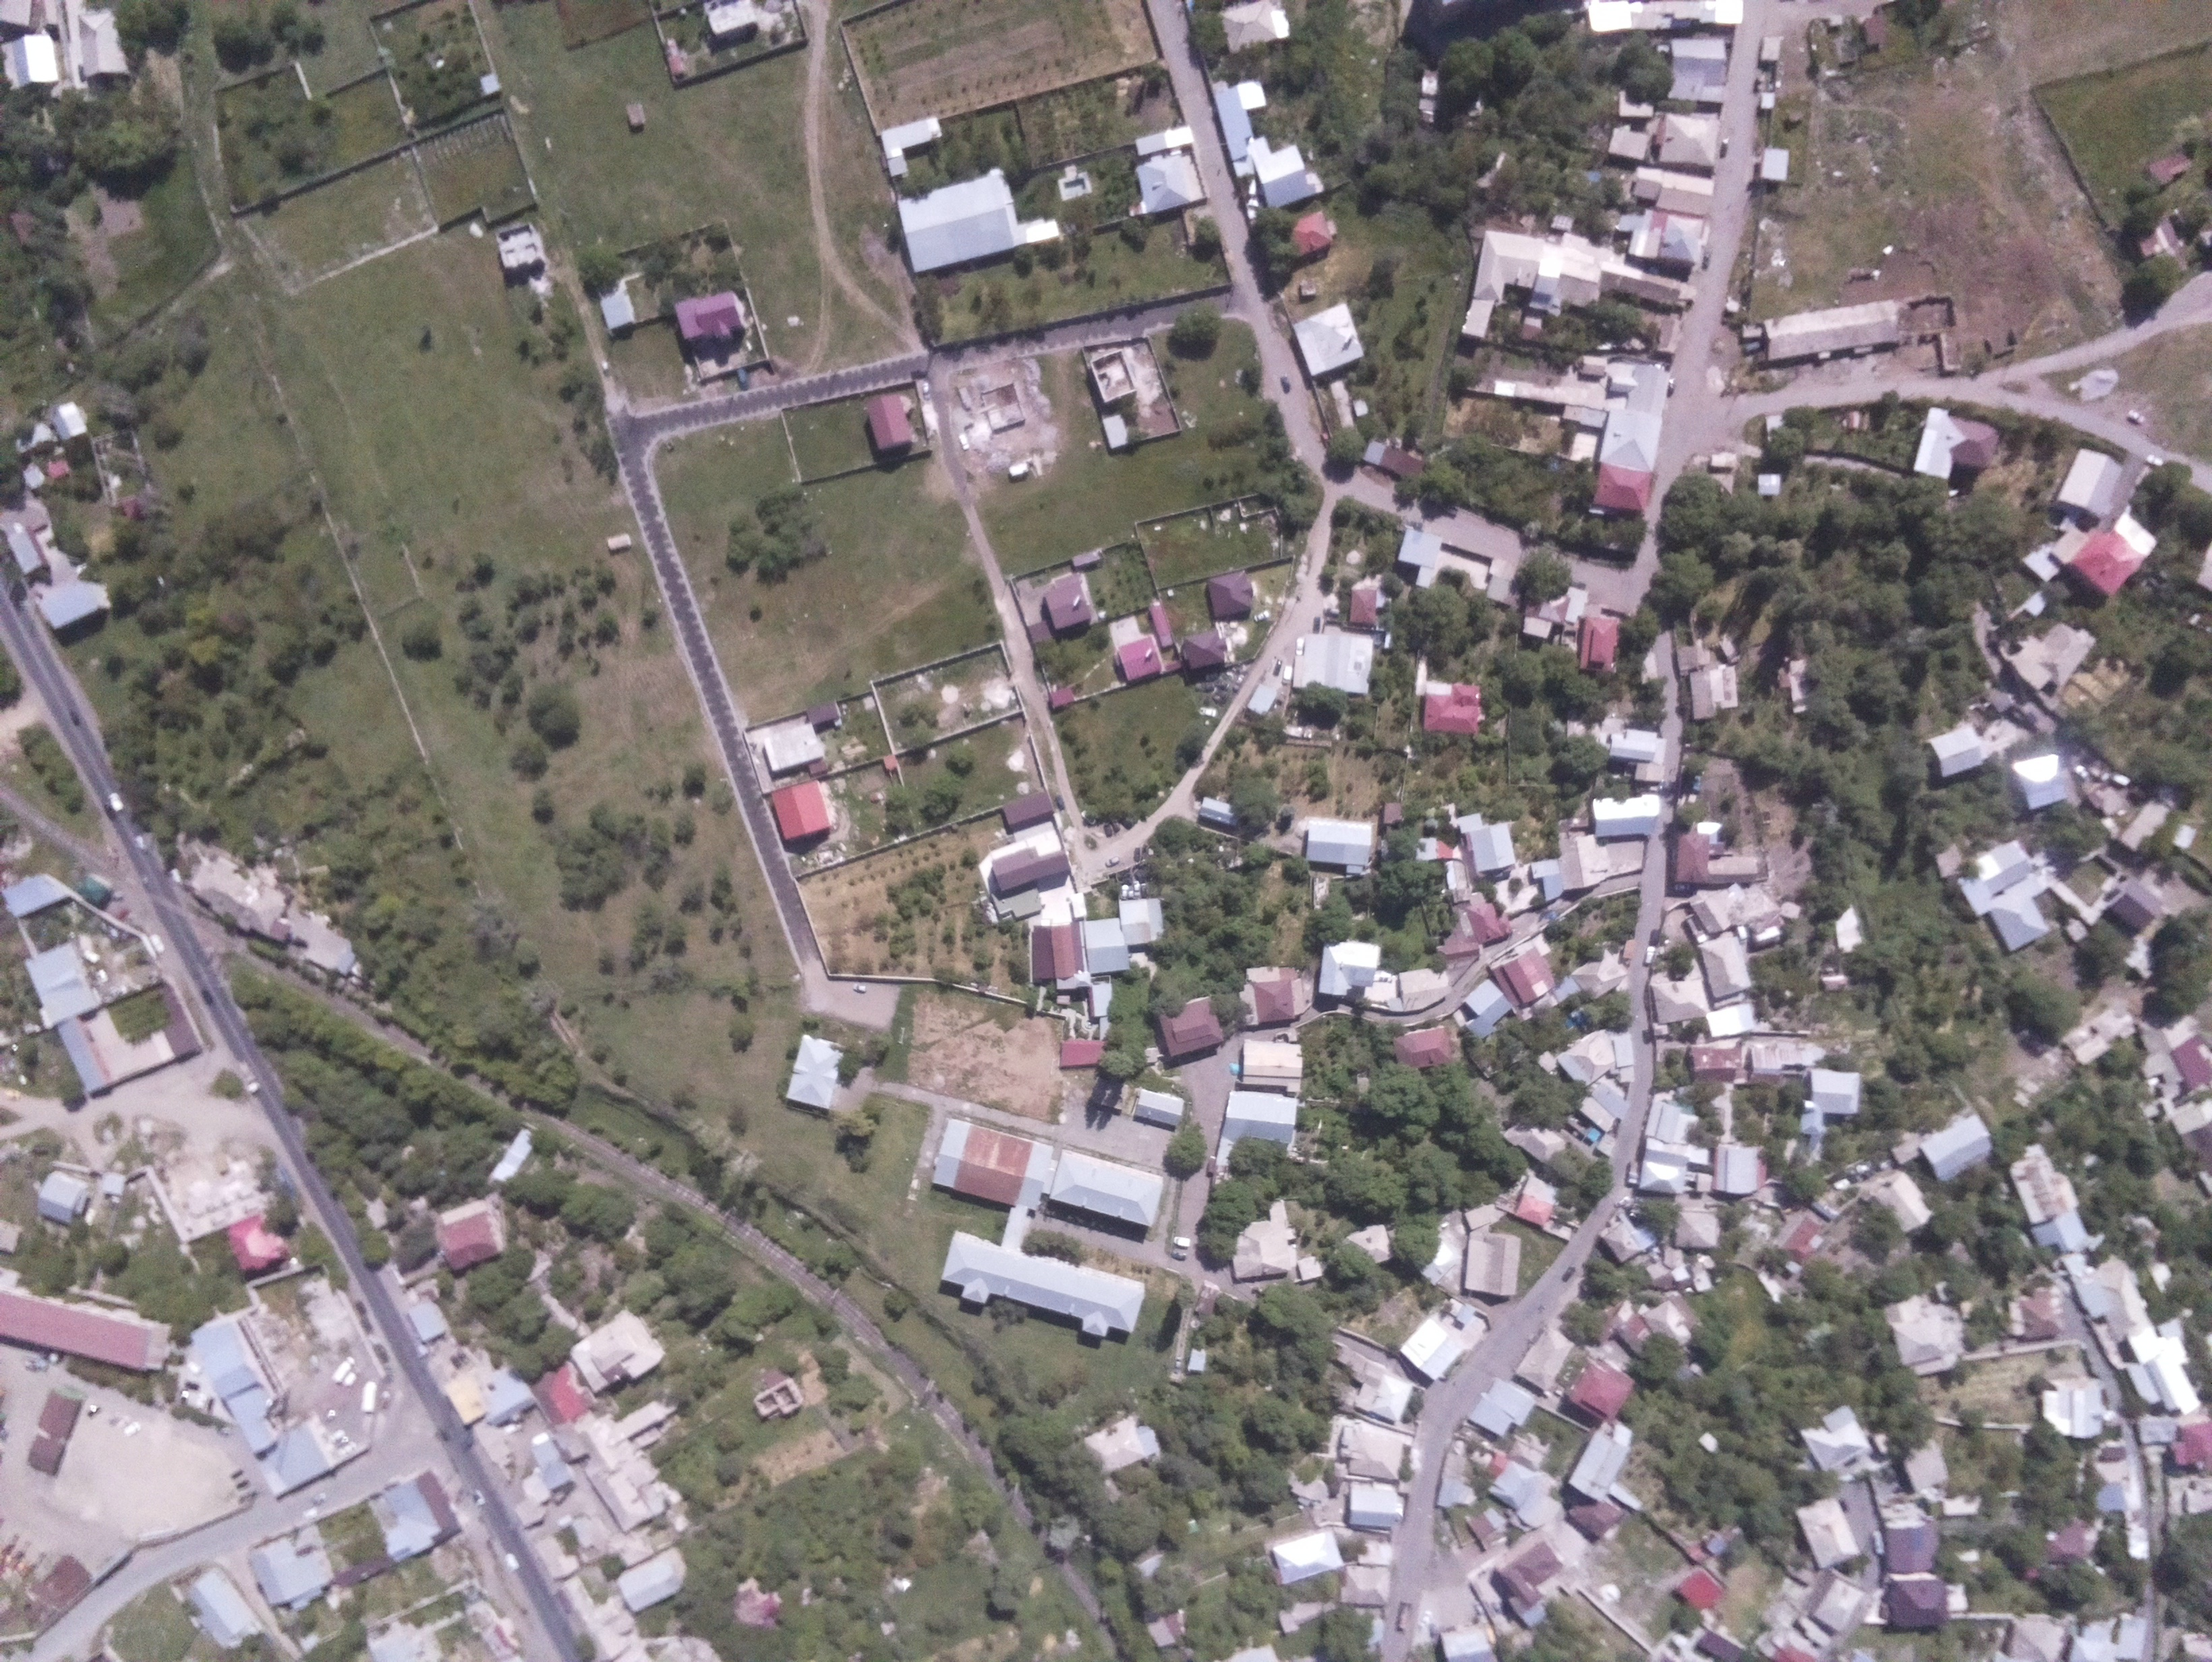car: (326, 1355, 356, 1384), (1713, 133, 1735, 164), (1170, 1233, 1194, 1252), (920, 377, 936, 405), (1252, 606, 1273, 627), (1278, 370, 1294, 398), (1166, 1246, 1189, 1266), (1641, 944, 1657, 971), (1664, 375, 1680, 402), (850, 979, 871, 999), (1130, 878, 1147, 901), (1102, 854, 1126, 869), (1280, 665, 1295, 690), (1116, 882, 1133, 903), (1292, 632, 1304, 658), (1269, 656, 1283, 679)
truck: (1681, 913, 1711, 946), (1622, 1157, 1646, 1189)
